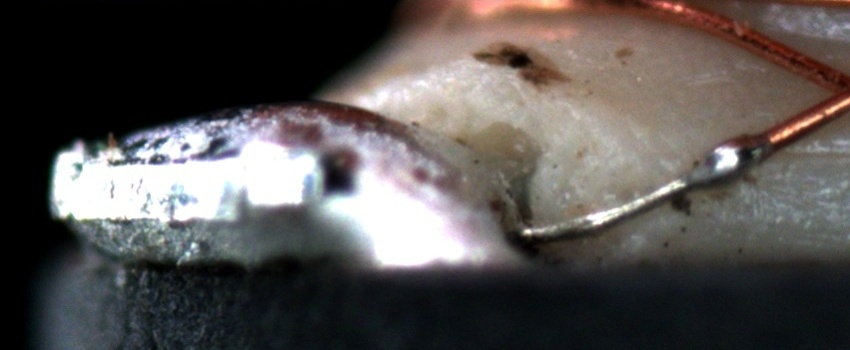CL: (806, 57, 850, 121)
DL: (761, 123, 850, 187)
TB: (708, 130, 771, 179)
TS: (519, 138, 772, 240)
TTCW: (512, 109, 810, 245)
